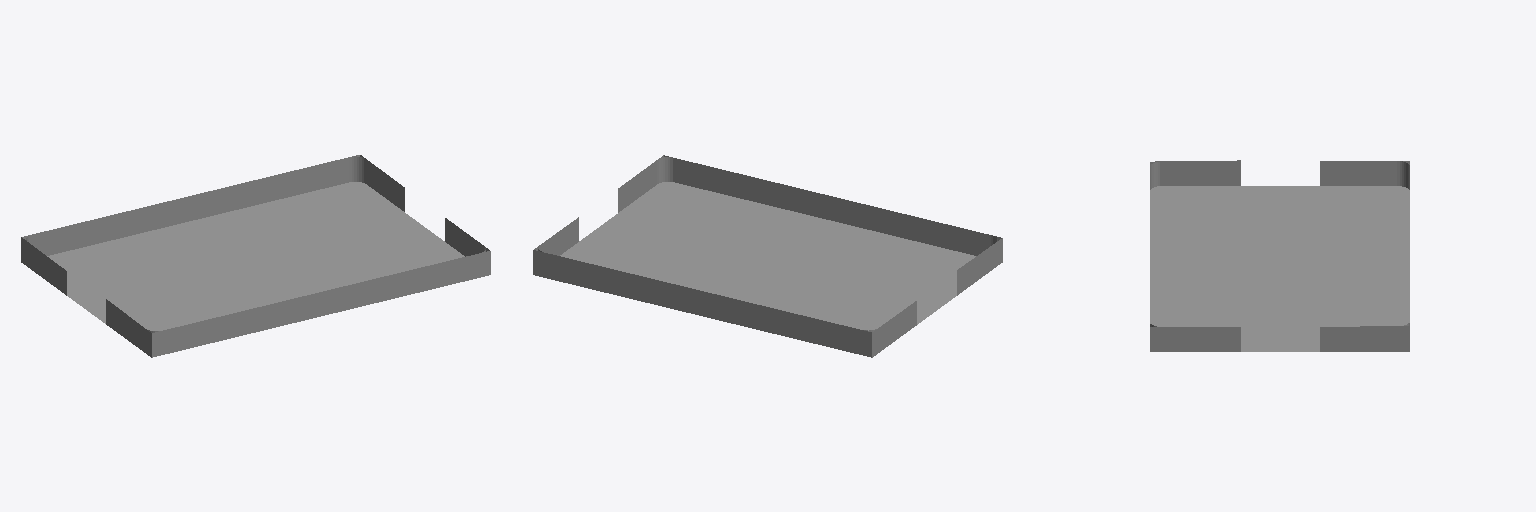
Rendered from hockeytable.obj.
3 renders of one model, left to right at view 1: azimuth 30°, elevation 25°; view 2: azimuth 150°, elevation 25°; view 3: azimuth 270°, elevation 25°, orthographic.
Parts seen in each view (by area): view 1: Cylinder.003_Cylinder.006; view 2: Cylinder.003_Cylinder.006; view 3: Cylinder.003_Cylinder.006.
Boxes of the visible parts, x1=… form: Cylinder.003_Cylinder.006: x1=21, y1=155, x2=490, y2=357; Cylinder.003_Cylinder.006: x1=533, y1=155, x2=1002, y2=357; Cylinder.003_Cylinder.006: x1=1150, y1=160, x2=1409, y2=351.
Bounding box in the file's own units: 30.02 × 2.17 × 19.99.